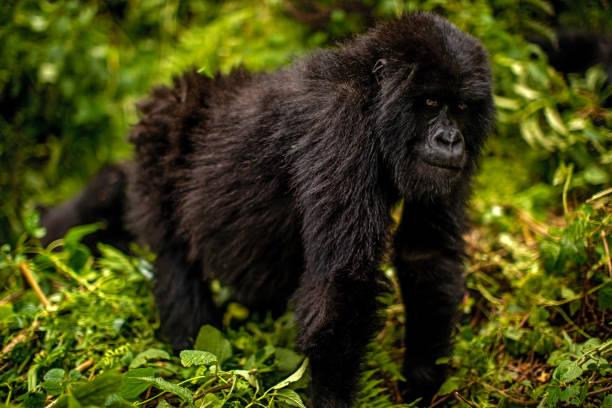goriile_montagne: (120, 9, 491, 407)
